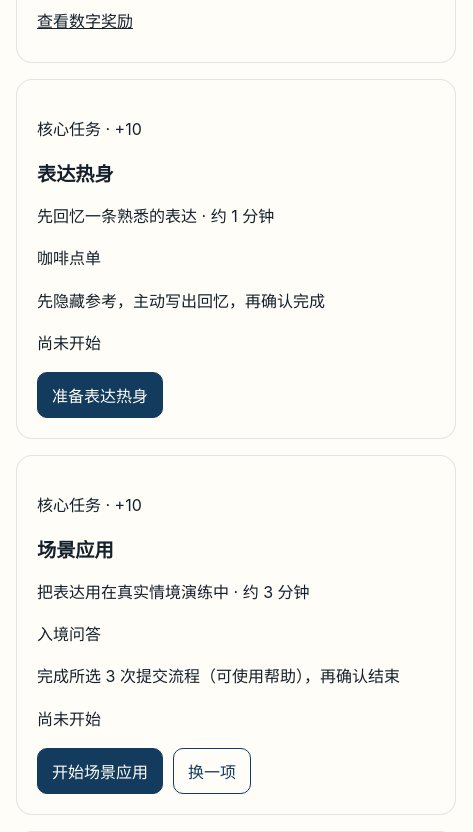
renders the actual zero-point plan and completes a real hidden-reference warmup only after a nonempty recall
(page scrolled)
Click the button "准备表达热身": (100, 395) [37, 372, 163, 418]
(page scrolled)
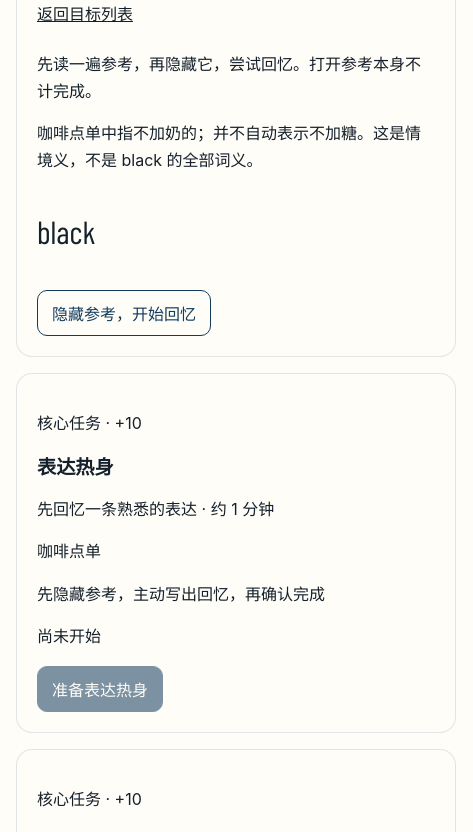
Now the text "black" is shown, box [37, 212, 95, 250]
Click the button "隐藏参考，开始回忆": (124, 313) [37, 290, 211, 336]
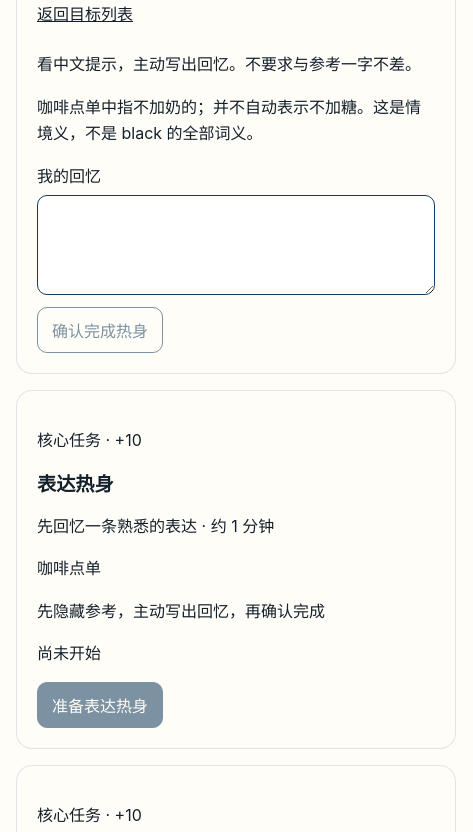
Now the button "确认完成热身" is disabled, box [37, 306, 163, 352]
In the text box labelled "我的回忆": (236, 244) [37, 194, 435, 294], type "I remember black coffee"
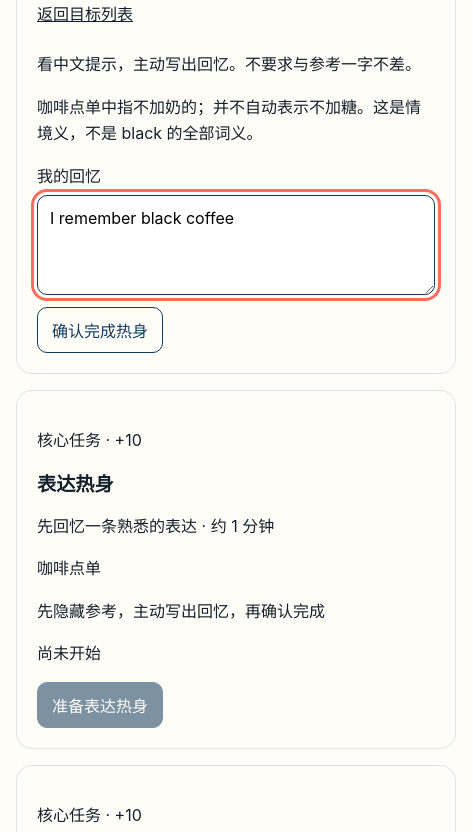
Click the button "确认完成热身": (100, 330) [37, 306, 163, 352]
(page scrolled)
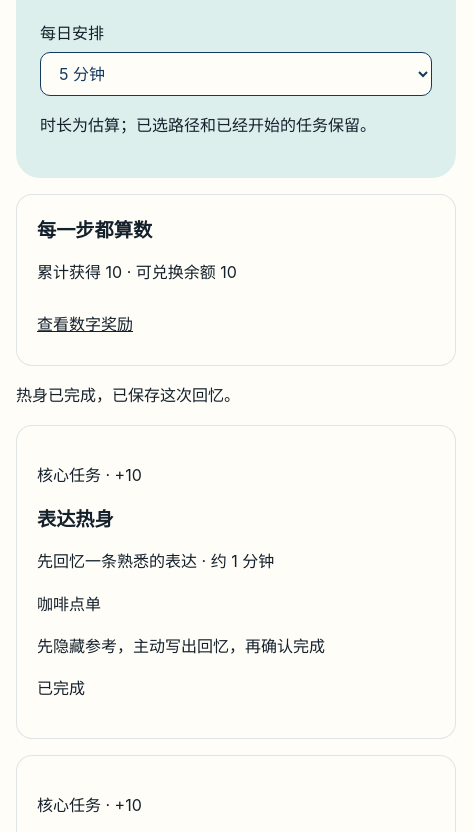
Now the text "热身已完成，已保存这次回忆。" is shown, box [16, 385, 240, 405]
